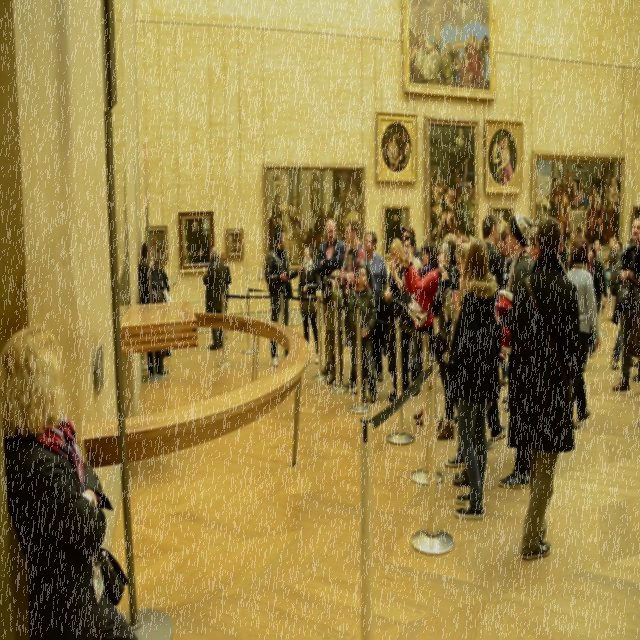pessoa: (502, 208, 586, 566), (442, 232, 506, 525), (442, 238, 492, 473), (496, 213, 536, 490), (270, 172, 362, 266), (438, 240, 473, 468), (401, 238, 442, 430), (565, 233, 604, 430), (480, 212, 510, 453), (409, 2, 490, 88), (429, 238, 462, 440), (538, 164, 620, 243), (608, 212, 640, 396), (312, 216, 348, 379), (263, 225, 304, 368), (338, 216, 370, 392), (381, 234, 412, 403), (431, 126, 474, 240), (136, 240, 170, 380), (346, 262, 379, 403), (396, 235, 424, 398), (362, 228, 389, 382), (295, 242, 323, 367), (319, 267, 346, 390), (150, 250, 174, 359), (202, 246, 226, 352), (586, 244, 608, 358), (496, 228, 519, 294), (489, 134, 516, 184), (610, 322, 638, 370), (219, 248, 233, 340), (608, 240, 624, 314), (606, 235, 620, 318), (498, 228, 516, 292), (383, 127, 411, 166), (184, 221, 209, 258), (524, 226, 540, 264), (594, 238, 606, 272), (399, 222, 416, 245), (387, 210, 399, 242), (496, 207, 508, 229)
